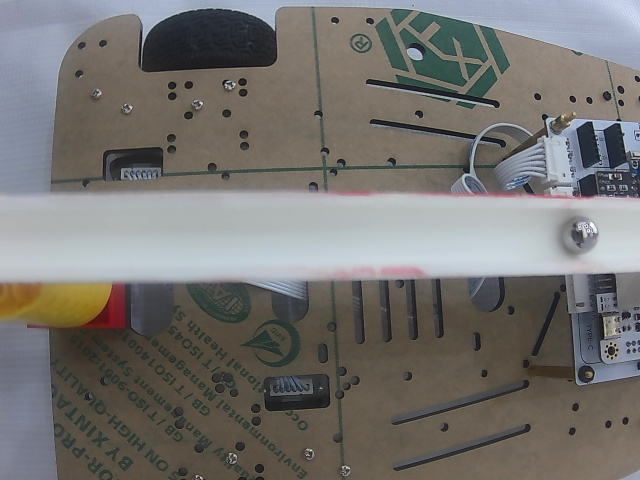steelball: (559, 216, 599, 255)
